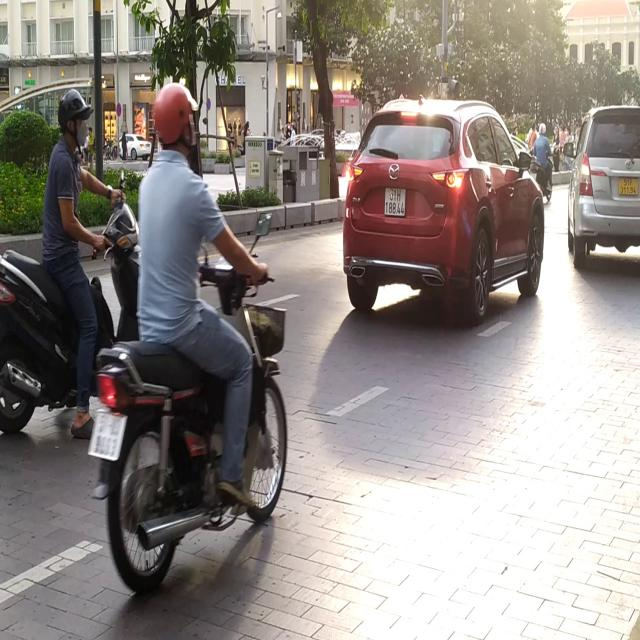bien_trang: (382, 182, 410, 220)
bien_vang: (615, 173, 640, 202)
